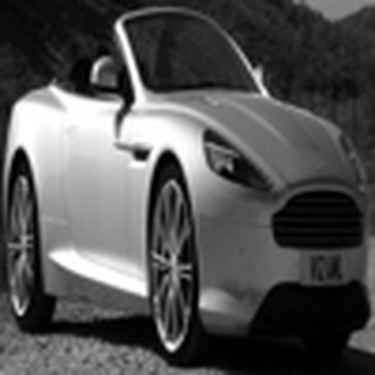car: (5, 5, 372, 367)
